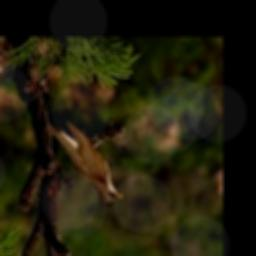Cuckoo: (47, 120, 124, 205)
